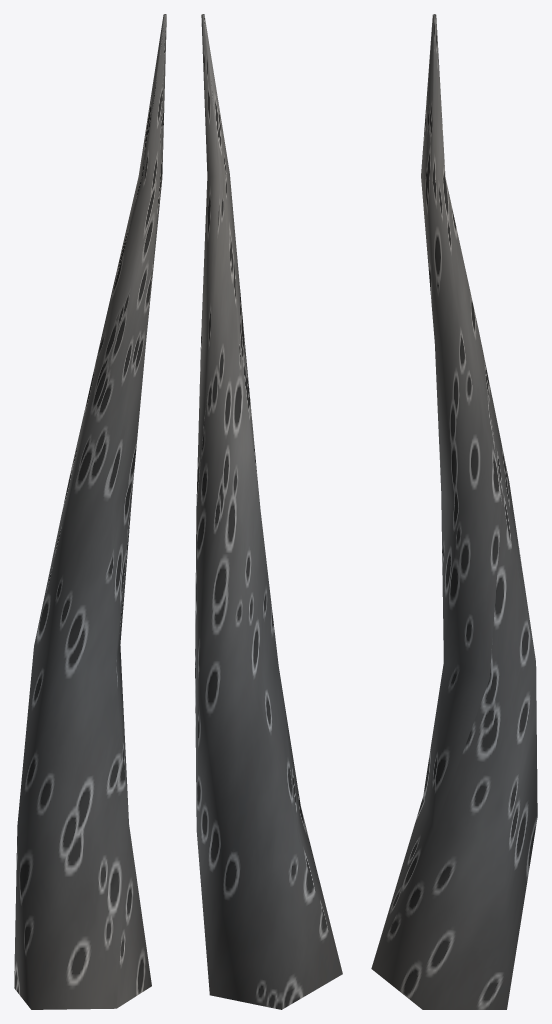
The model's file is spire_l2.gltf.
3 renders of one model, left to right at view 1: azimuth 30°, elevation 25°; view 2: azimuth 150°, elevation 25°; view 3: azimuth 270°, elevation 25°, orthographic. The views are drawn at different scales.
Visible parts, largest first — view 1: spire_l2; view 2: spire_l2; view 3: spire_l2.
Boxes of the visible parts, bbox=[...] form: spire_l2: bbox=[14, 14, 166, 1009]; spire_l2: bbox=[195, 14, 342, 1009]; spire_l2: bbox=[371, 14, 537, 1009].
Size of the model in its own units: 0.9084 by 6.04 by 0.895.
1 material, 1 textured.
